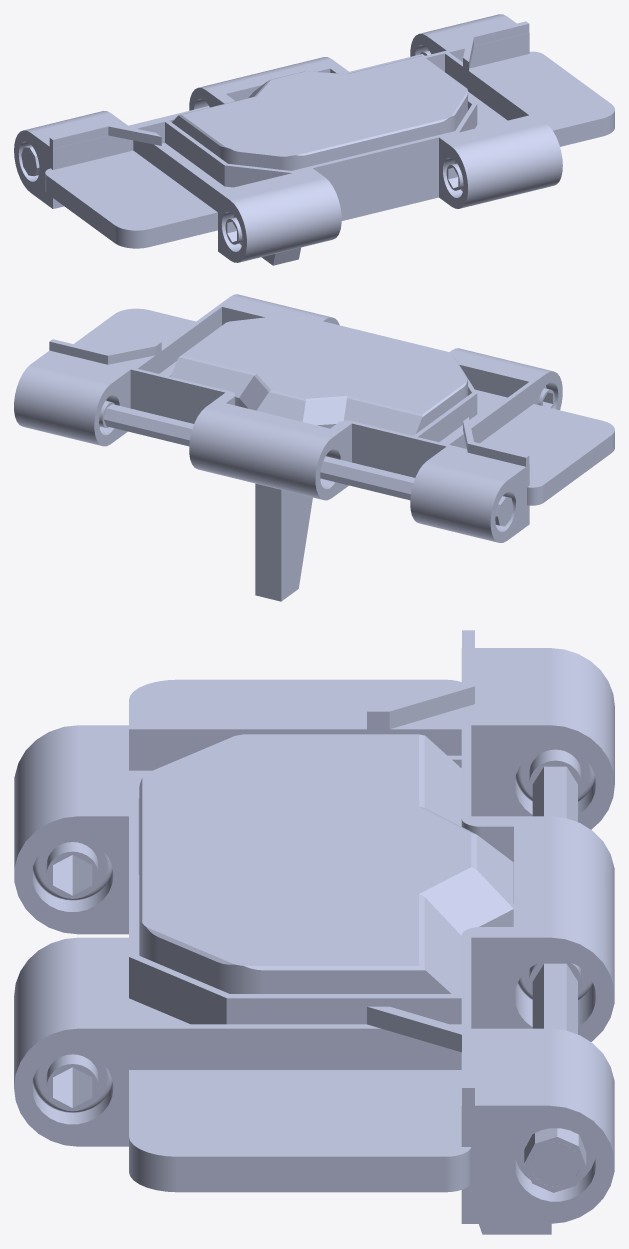
The model's file is track01.fbx.
3 renders of one model, top to bottom at view 1: azimuth 30°, elevation 25°; view 2: azimuth 150°, elevation 25°; view 3: azimuth 270°, elevation 25°, orthographic. The views are drawn at different scales.
Visible parts, largest first — view 1: block-update001, pad, pin, block-update, bushing-long, bushing-long001; view 2: block-update001, pad, block-update, pin; view 3: block-update001, pad, pin, bushing-long001, bushing-long, bushing-short, pin-nut001, bushing-long002.
Boxes of the visible parts, x1,y1,x2,y2 form: block-update001: (14,14,614,262); pad: (172,55,467,170); pin: (23,54,424,173); block-update: (261,247,300,265); bushing-long: (446,161,463,191); bushing-long001: (225,215,242,245); block-update001: (14,294,614,542); pad: (171,314,467,435); block-update: (255,483,312,601); pin: (103,404,511,523); block-update001: (14,630,614,1223); pad: (139,734,513,993); pin: (531,766,579,1186); bushing-long001: (32,838,112,900); bushing-long: (32,1051,112,1112); bushing-short: (515,747,595,801); pin-nut001: (515,1128,595,1192); bushing-long002: (517,960,592,999).
Size of the model in its own units: 34.6 by 12.58 by 18.42.
